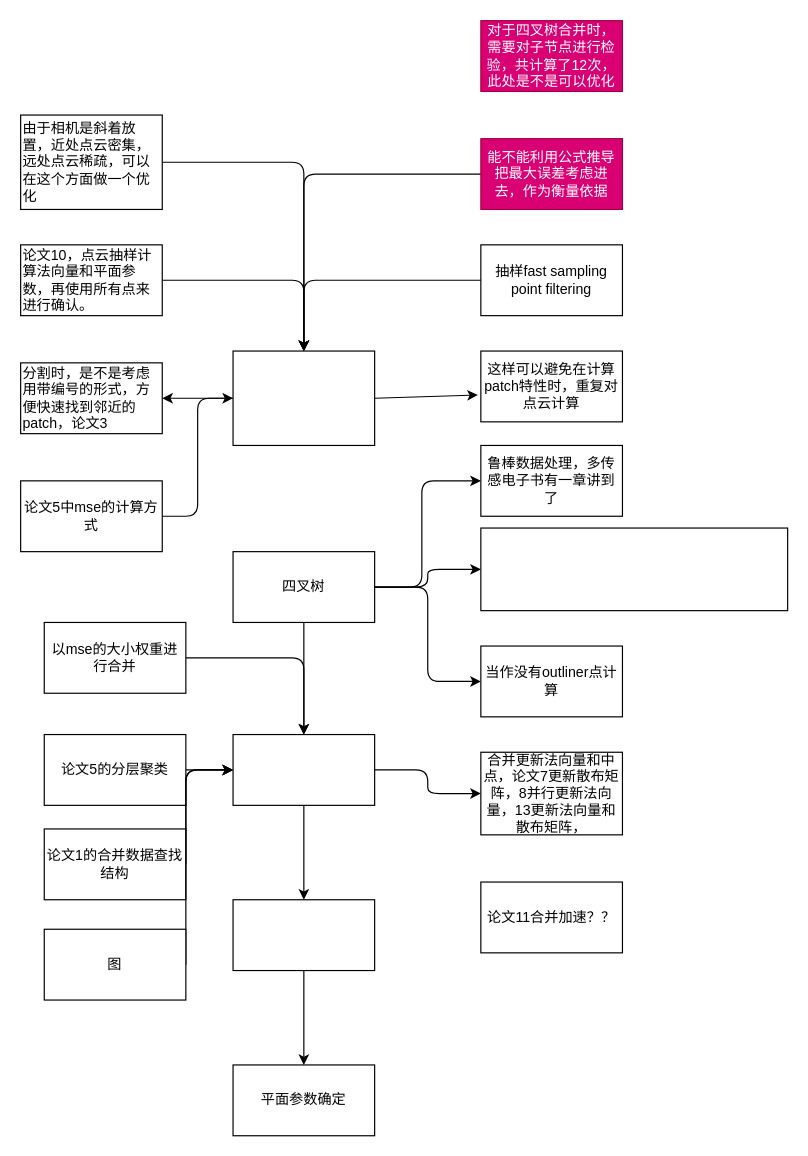
The diagram is 808 pixels wide and 1156 high, and some of its shapes have lost their labels. The box of each missing label's shape, as (x1, y1, x2, y2) in pixels:
patch特性计算方式，PCA，高斯（论文12），论文1鲁棒统计学的中间值方法，点面配准: (480, 527, 788, 611)
先按四叉树分割成小块再合并，尽量选择合并后的大块作为种子点云，这样种子点更稳定。: (232, 350, 375, 445)
合并: (232, 733, 375, 805)
边缘点合并: (232, 899, 375, 971)
